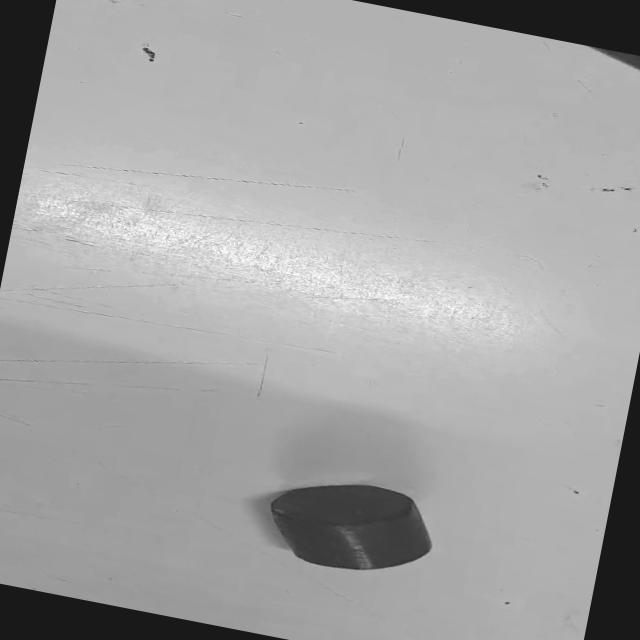rcircle: (270, 485, 431, 570)
